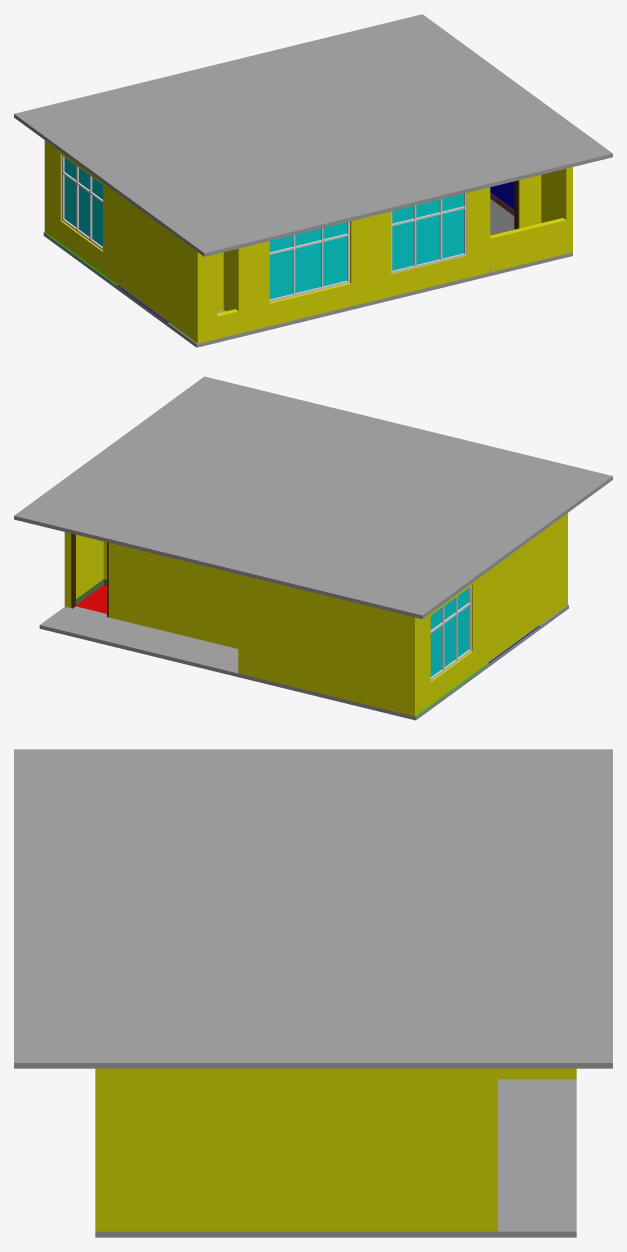
The model's file is Wing_A_Flat_No_04_Type01_MatID.fbx.
The picture shows the model from 3 angles, top to bottom: view 1: azimuth 30°, elevation 25°; view 2: azimuth 150°, elevation 25°; view 3: azimuth 270°, elevation 25°; orthographic projection. The views are drawn at different scales.
Visible parts, largest first — view 1: Roof, walls, Glass1 (×2), Floor, Window_Frame (×2), Flat_No_03_Type03:Glass1, Flat_No_03_Type03:Window_Frame; view 2: Roof, walls, Floor, Flat_No_03_Type03:Glass1, Flat_No_03_Type03:Window_Frame, pCube12; view 3: Roof, walls, Floor.
Part boxes in pixels (x1=…): Roof: x1=14, y1=14, x2=612, y2=256; walls: x1=44, y1=140, x2=572, y2=343; Glass1 (×2): x1=269, y1=193, x2=463, y2=299; Floor: x1=43, y1=199, x2=572, y2=347; Window_Frame (×2): x1=269, y1=193, x2=466, y2=301; Flat_No_03_Type03:Glass1: x1=64, y1=157, x2=102, y2=246; Flat_No_03_Type03:Window_Frame: x1=62, y1=155, x2=102, y2=249; Roof: x1=14, y1=376, x2=612, y2=619; walls: x1=64, y1=513, x2=567, y2=716; Floor: x1=39, y1=585, x2=568, y2=720; Flat_No_03_Type03:Glass1: x1=430, y1=588, x2=468, y2=676; Flat_No_03_Type03:Window_Frame: x1=430, y1=585, x2=471, y2=680; pCube12: x1=71, y1=533, x2=108, y2=617; Roof: x1=14, y1=749, x2=612, y2=1068; walls: x1=95, y1=1068, x2=576, y2=1231; Floor: x1=95, y1=1079, x2=576, y2=1237.
Bounding box in the file's own units: 1146 × 316 × 925.
